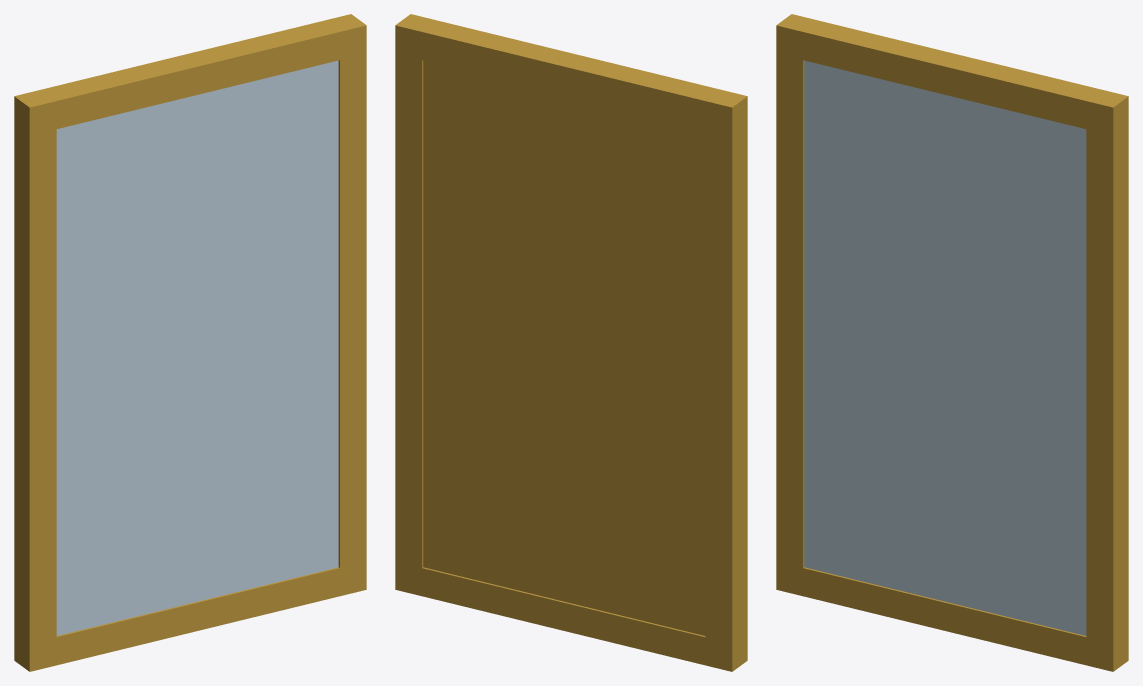
The model's file is salon_mirror.glb.
The picture shows the model from 3 angles, left to right: view 1: azimuth 30°, elevation 25°; view 2: azimuth 150°, elevation 25°; view 3: azimuth 330°, elevation 25°; orthographic projection.
Parts seen in each view (by area): view 1: glass_mirror_glass, frame_gilt; view 2: frame_gilt; view 3: glass_mirror_glass, frame_gilt.
Boxes of the visible parts, x1,y1,x2,y2 form: glass_mirror_glass: [56, 60, 338, 635]; frame_gilt: [14, 14, 366, 671]; frame_gilt: [395, 14, 747, 671]; glass_mirror_glass: [804, 60, 1086, 635]; frame_gilt: [776, 14, 1128, 671].
Size of the model in its own units: 0.5 by 0.8 by 0.04.
